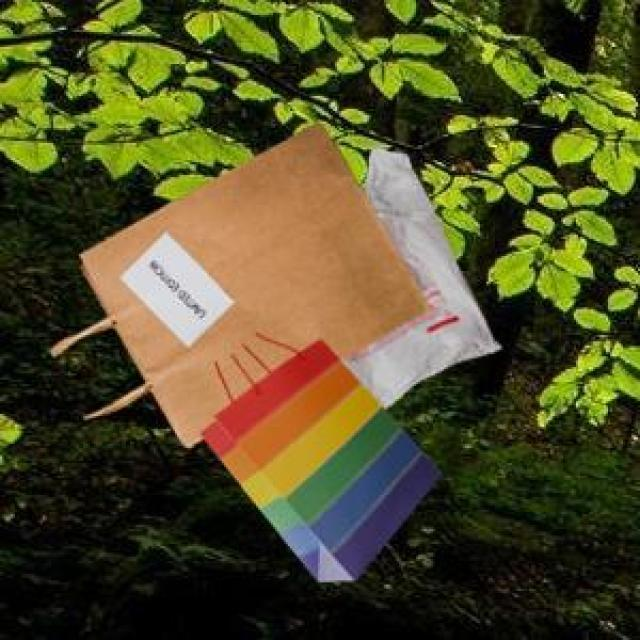paper: (47, 120, 427, 444), (196, 335, 437, 578)
